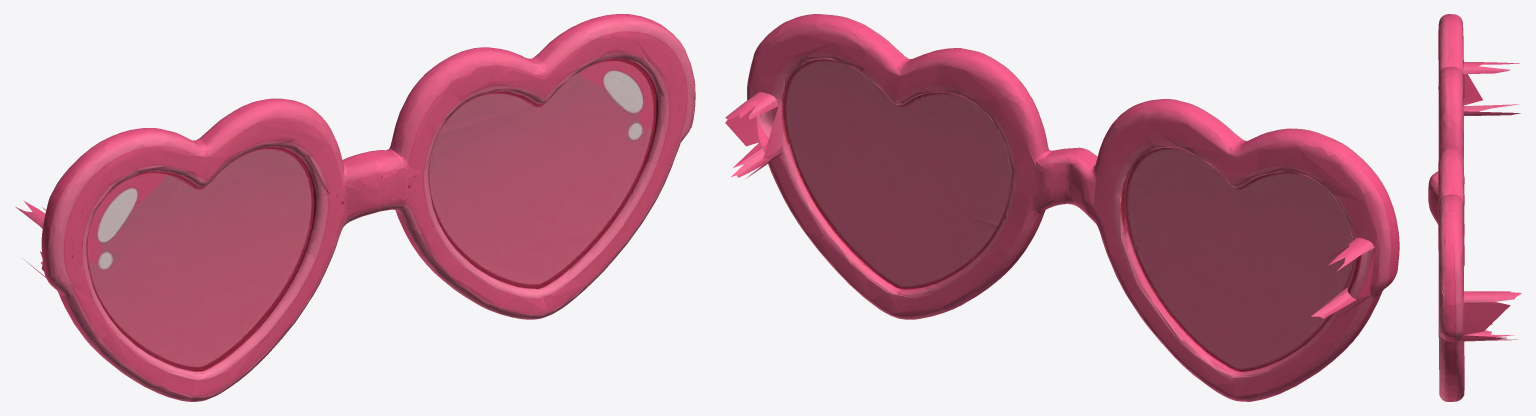
File: heart_specs.glb
3 views of the same model, side by side, from view 1: azimuth 30°, elevation 25°; view 2: azimuth 150°, elevation 25°; view 3: azimuth 270°, elevation 25° (orthographic). The views are drawn at different scales.
Visible parts, largest first — view 1: Mesh_0; view 2: Mesh_0; view 3: Mesh_0.
Part boxes in pixels (x1=…): Mesh_0: x1=15, y1=14, x2=695, y2=401; Mesh_0: x1=725, y1=14, x2=1399, y2=401; Mesh_0: x1=1428, y1=14, x2=1521, y2=401.
Size of the model in its own units: 1 by 0.4168 by 0.1593.
1 material, 1 textured.
